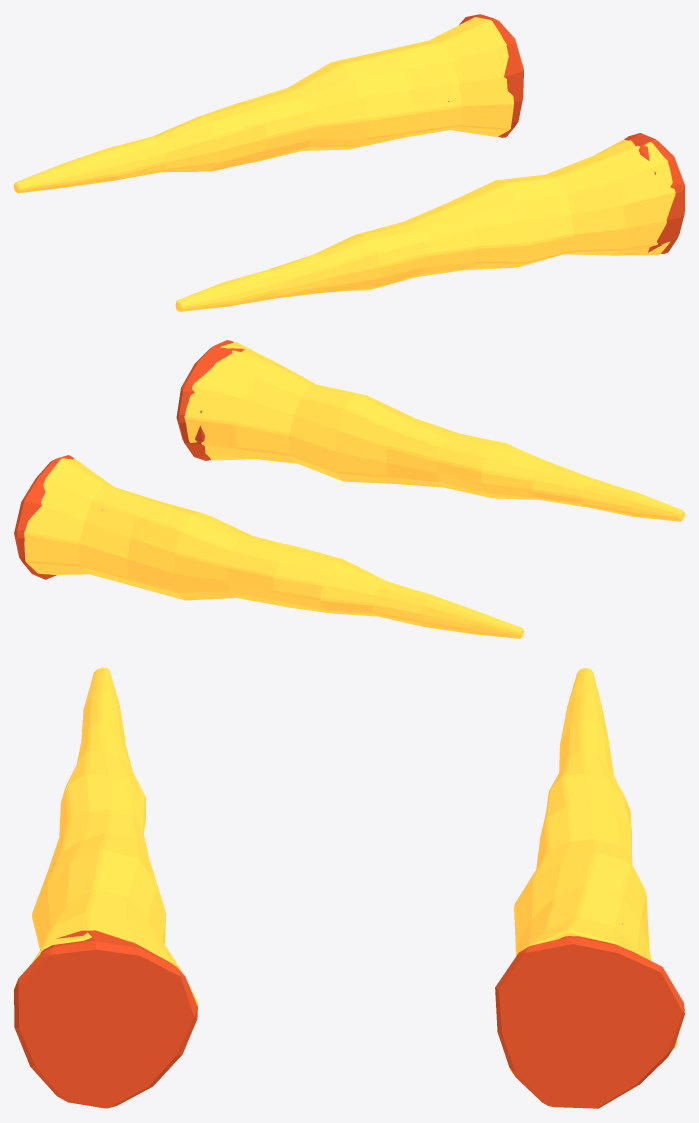
The model's file is DualMissileExhaust.fbx.
The picture shows the model from 3 angles, top to bottom: view 1: azimuth 30°, elevation 25°; view 2: azimuth 150°, elevation 25°; view 3: azimuth 270°, elevation 25°; orthographic projection. The views are drawn at different scales.
Parts seen in each view (by area): view 1: OuterFlame_02, OuterFlame_01, HotGasCore_01, HotGasCore_02; view 2: OuterFlame_02, OuterFlame_01, HotGasCore_01, HotGasCore_02; view 3: HotGasCore_02, HotGasCore_01, OuterFlame_02, OuterFlame_01.
Part boxes in pixels (bbox=[...]): OuterFlame_02: bbox=[14, 17, 514, 193]; OuterFlame_01: bbox=[175, 140, 675, 311]; HotGasCore_01: bbox=[624, 133, 684, 253]; HotGasCore_02: bbox=[448, 14, 523, 137]; OuterFlame_02: bbox=[24, 458, 524, 638]; OuterFlame_01: bbox=[184, 342, 684, 521]; HotGasCore_01: bbox=[176, 340, 244, 460]; HotGasCore_02: bbox=[14, 455, 102, 579]; HotGasCore_02: bbox=[495, 923, 684, 1108]; HotGasCore_01: bbox=[14, 930, 197, 1108]; OuterFlame_02: bbox=[510, 668, 677, 1074]; OuterFlame_01: bbox=[31, 667, 197, 1006].
Size of the model in its own units: 219 by 50.82 by 178.
